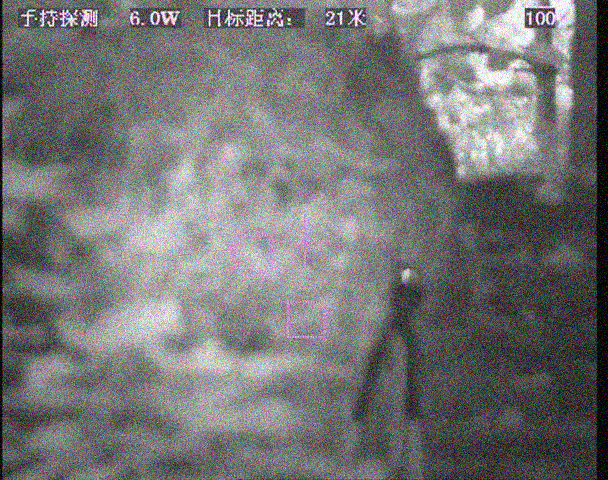my: (396, 267, 415, 284)
